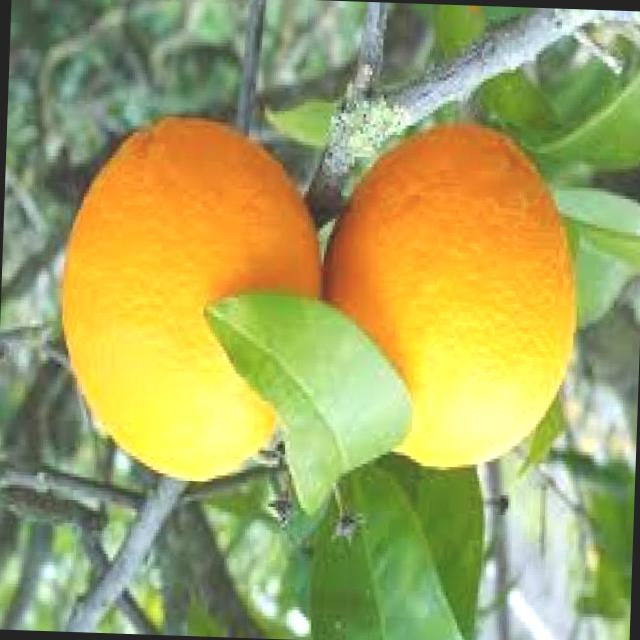Orange: (53, 113, 326, 488), (314, 119, 583, 478)
